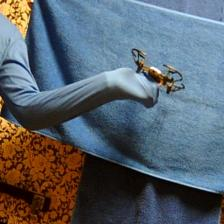drone: (130, 49, 186, 94)
